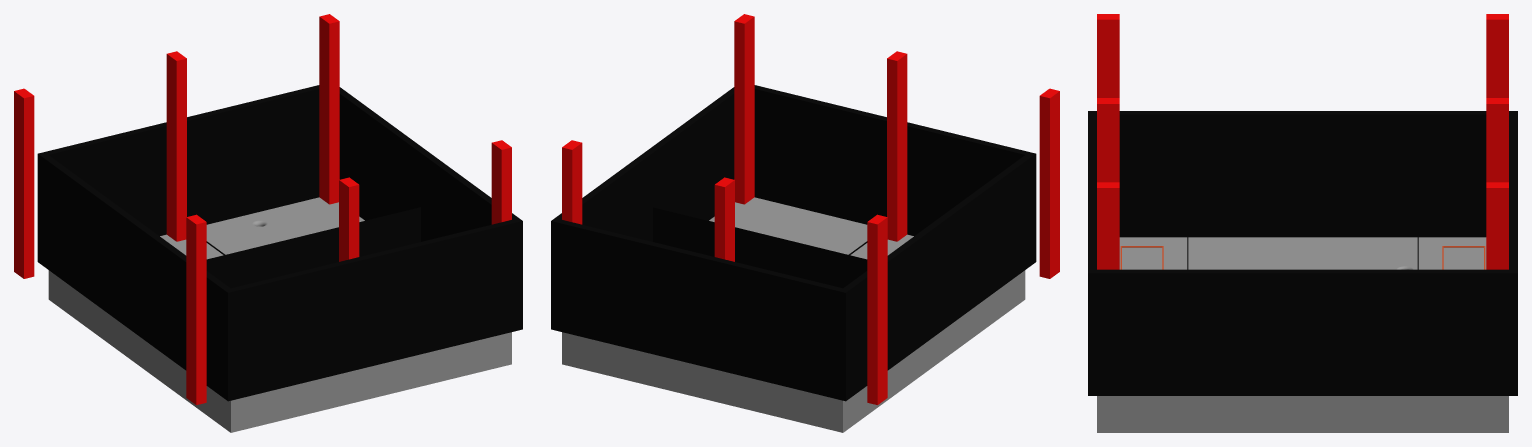
The model's file is UCF_field.dae.
3 renders of one model, left to right at view 1: azimuth 30°, elevation 25°; view 2: azimuth 150°, elevation 25°; view 3: azimuth 270°, elevation 25°, orthographic. The views are drawn at different scales.
Visible parts, largest first — view 1: 661f02cc576c6477c574739b (×8); view 2: 661f02cc576c6477c574739b (×8); view 3: 661f02cc576c6477c574739b (×8).
Part boxes in pixels (left/top/right/bottom): 661f02cc576c6477c574739b (×8): left=14, top=14, right=522, bottom=432; 661f02cc576c6477c574739b (×8): left=551, top=14, right=1059, bottom=432; 661f02cc576c6477c574739b (×8): left=1088, top=14, right=1517, bottom=432.
Size of the model in its own units: 9.34 by 9.54 by 6.
